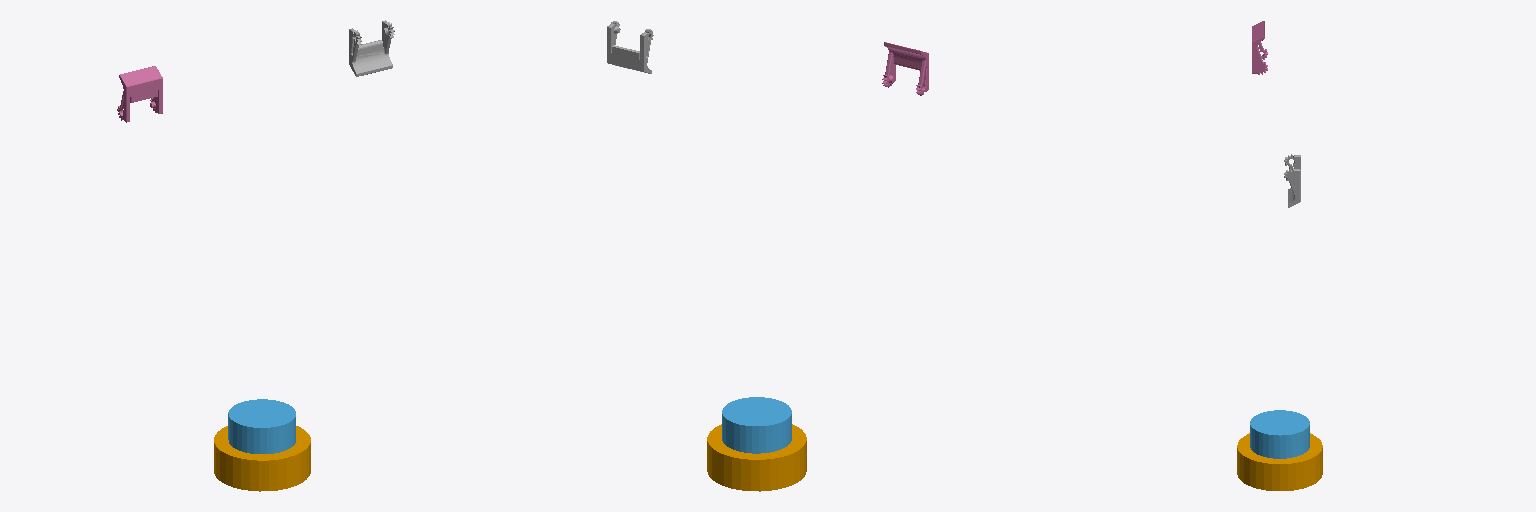
The robot description file, URDF, robot "arm_mesh":
<?xml version = "1.0" ?>
<robot name="arm_mesh">



	<link name = "base">
			<visual>
				<origin rpy="0 0 0" xyz = "0 0 0"/>
				<geometry>
               		<cylinder radius="0.05" length="0.035"/>
            	</geometry>
        	</visual>

            <collision>
                <origin rpy="0 0 0" xyz = "0 0 0"/>
                <geometry>
                    <cylinder radius="0.05" length="0.035"/>
                </geometry>
            </collision>

            <inertial>
                <mass value = "0.120"/>
                <origin rpy="0 0 0" xyz = "0 0 0"/>
                <inertia ixx="8.7e-05" ixy="0.0" ixz="0.0" iyy="8.7e-05" iyz="0.0" izz="0.00015"/>
            </inertial>

    </link>


    <joint name = "base_link1" type = "revolute">
			<axis xyz= "0 0 1"/>
			<limit effort="1000.0" lower="-3.14" upper="3.14" velocity="0.5" />
        	<origin rpy="0 0 0" xyz="0 0 0.0175"/>
        	<parent link="base"/>
        	<child link="link1"/>
    </joint>

    <link name = "link1">
			<visual>
				<origin rpy="0 0 0" xyz = "0 0 0.015"/>
				<geometry>
               		<cylinder radius="0.035" length="0.03"/>
            	</geometry>
        	</visual>

            <collision>
                <origin rpy="0 0 0" xyz = "0 0 0.015"/>
                <geometry>
                    <cylinder radius="0.035" length="0.03"/>
                </geometry>
            </collision>

            <inertial>
                <mass value = "0.075"/>
                <origin rpy="0 0 0" xyz = "0 0 0.0325 "/>
                <inertia ixx="0.037" ixy="0.000274" ixz="-0.000001395" iyy="0.0245" iyz="0.000007207" izz="0.01526"/>
            </inertial>
    </link>

    <joint name = "link1_link2" type = "revolute">
			<axis xyz= "0 1 0"/>
			<limit effort="1000.0" lower="-1.57" upper="1.57" velocity="0.5" />
        	<origin rpy="0 0 0" xyz="0 0 0.042"/>
        	<parent link="link1"/>
        	<child link="link2"/>
        </joint>

    <link name = "link2">
			<visual>
				<origin rpy="0 0 0" xyz = "0 -0.02 0.05"/>
				<geometry>
               		<mesh filename="package://my_arm/meshes/link2.stl" scale = "0.001 0.001 0.001"/>
            	</geometry>
        	</visual>
            <collision>
                <origin rpy="0 0 0" xyz = "0 0 0.05"/>
                <geometry>
                    <box size ="0.025 0.054 0.12"/>
                </geometry>
            </collision>

            <inertial>
                <mass value = "0.018"/>
                <origin rpy="0 0 0" xyz = "0 0 0.05 "/>
                <inertia ixx="0.037" ixy="0.000274" ixz="-0.000001395" iyy="0.0245" iyz="0.000007207" izz="0.01526"/>
            </inertial>
    </link>

    <joint name = "link2_link3" type = "revolute">
			<axis xyz= "0 1 0"/>
			<limit effort="1000.0" lower="-1.57" upper="1.57" velocity="0.5" />
        	<origin rpy="0 0 0" xyz="0 0 0.095"/>
        	<parent link="link2"/>
        	<child link="link3"/>
        </joint>

    <link name = "link3">
			<visual>
				<origin rpy="0 0 0" xyz = "-0.04 -0.045 0.03"/>
				<geometry>
               		<mesh filename="package://my_arm/meshes/link3.stl" scale = "0.001 0.001 0.001"/>
            	</geometry>
        	</visual>

            <collision>
                <origin rpy="0 0 0" xyz = "0 0 0.045"/>
                <geometry>
                    <box size="0.03 0.04 0.14"/>
                </geometry>
            </collision>

            <inertial>
                <mass value = "0.130"/>
                <origin rpy="0 0 0" xyz = "0 0 0 "/>
                <inertia ixx="0.037" ixy="0.000274" ixz="-0.000001395" iyy="0.0245" iyz="0.000007207" izz="0.01526"/>
            </inertial>
    </link>

    <joint name = "link3_link4" type = "revolute">
			<axis xyz= "0 1 0"/>
			<limit effort="1000.0" lower="-1.57" upper="1.57" velocity="0.5" />
        	<origin rpy="0 0 0" xyz="0 0 0.09"/>
        	<parent link="link3"/>
        	<child link="link4"/>
        </joint>

    <link name = "link4">
			<visual>
				<origin rpy="0 -1.57 1.57" xyz = "0.017 -0.0135 0.033"/>
				<geometry>
               		<mesh filename="package://my_arm/meshes/link4.stl" scale = "0.001 0.001 0.001"/>
            	</geometry>
        	</visual>

            <collision>
                <origin rpy="0 -1.57 1.57" xyz = "0.017 -0.0135 0.033"/>
                <geometry>
                    <mesh filename="package://my_arm/meshes/link4.stl" scale = "0.001 0.001 0.001"/>
                </geometry>
            </collision>

            <inertial>
                <mass value = "0.025"/>
                <origin rpy="0 0 0" xyz = "0 0 0 "/>
                <inertia ixx="0.00485" ixy="-0.000197" ixz="-0.00017" iyy="0.0084" iyz="0.0" izz="0.0042"/>
            </inertial>
    </link>

    <joint name = "link4_gripper_base" type = "revolute">
			<axis xyz= "0 0 1"/>
			<limit effort="1000.0" lower="-1.57" upper="1.57" velocity="0.5" />
        	<origin rpy="0 0 0" xyz="-0.01 0 0.06"/>
        	<parent link="link4"/>
        	<child link="gripper_base"/>
        </joint>

    <link name = "gripper_base">
			<visual>
				<origin rpy="0 0 3.14" xyz = "0.1 0.095 0"/>
				<geometry>
               		<mesh filename="package://my_arm/meshes/gripper_base.stl" scale = "0.001 0.001 0.001"/>
            	</geometry>
        	</visual>

            <collision>
                <origin rpy="0 0 3.14" xyz = "0.1 0.095 0"/>
                <geometry>
                    <mesh filename="package://my_arm/meshes/gripper_base.stl" scale = "0.001 0.001 0.001"/>
                </geometry>
            </collision>

            <inertial>
                <mass value = "0.020"/>
                <origin rpy="0 0 0" xyz = "0 0 0 "/>
                <inertia ixx="0.00156" ixy="0.0000274" ixz="-0.00001845" iyy="0.0016" iyz="0.000032" izz="0.0027"/>
            </inertial>
    </link>

 <joint name = "gripper_base_claw_L" type = "revolute">
			<axis xyz= "1 0 0"/>
			<limit effort="1000.0" lower="-1.57" upper="1.57" velocity="0.5" />
        	<origin rpy="0 0 0" xyz="0 -0.0125 0.01"/>
        	<parent link="gripper_base"/>
        	<child link="claw_L"/>
        </joint>

    <link name = "claw_L">
			<visual>
				<origin rpy="-1.57 0 0" xyz = "-0.150 -0.01 0.125"/>
				<geometry>
               		<mesh filename="package://my_arm/meshes/gripper_claw_L.stl" scale = "0.001 0.001 0.001"/>
            	</geometry>
        	</visual>
            <collision>
                <origin rpy="-1.57 0 0" xyz = "-0.150 -0.01 0.125"/>
                <geometry>
                    <mesh filename="package://my_arm/meshes/gripper_claw_L.stl" scale = "0.001 0.001 0.001"/>
                </geometry>
            </collision>

            <inertial>
                <mass value = "0.007"/>
                <origin rpy="0 0 0" xyz = "0 0 0 "/>
                <inertia ixx="0.037" ixy="0.000274" ixz="-0.000001395" iyy="0.0245" iyz="0.000007207" izz="0.01526"/>
            </inertial>
    </link>

    <joint name = "gripper_base_claw_R" type = "revolute">
			<axis xyz= "-1 0 0"/>
			<limit effort="1000.0" lower="-1.57" upper="1.57" velocity="0.5" />
        	<origin rpy="0 0 0" xyz="0 0.0035 0.012"/>
        	<parent link="gripper_base"/>
        	<child link="claw_R"/>
        </joint>

    <link name = "claw_R">
			<visual>
				<origin rpy="-1.57 0 3.14" xyz = "0.147 0.01 0.123"/>
				<geometry>
               		<mesh filename="package://my_arm/meshes/gripper_claw_R.stl" scale = "0.001 0.001 0.001"/>
            	</geometry>
        	</visual>
            <collision>
                <origin rpy="-1.57 0 3.14" xyz = "0.147 0.01 0.123"/>
                <geometry>
                    <mesh filename="package://my_arm/meshes/gripper_claw_R.stl" scale = "0.001 0.001 0.001"/>
                </geometry>
            </collision>

            <inertial>
                <mass value = "0.007"/>
               <origin rpy="0 0 0" xyz = "0 0 0 "/>
                <inertia ixx="0.037" ixy="0.000274" ixz="-0.000001395" iyy="0.0245" iyz="0.000007207" izz="0.01526"/>
            </inertial>
    </link>
<gazebo>
    <plugin name="gazebo_ros_control" filename="libgazebo_ros_control.so">
    
    </plugin>
  </gazebo>


   

</robot>

--- Render facts (derived) ---
3 views of the same robot in one strip: view 1: azimuth 30°, elevation 25°; view 2: azimuth 150°, elevation 25°; view 3: azimuth 270°, elevation 25° (orthographic).
Model arm_mesh with 8 links and 7 joints (7 revolute), rooted at base, posed every joint at zero.
Visible links, largest first — view 1: base, link1, claw_R, claw_L; view 2: base, link1, claw_R, claw_L; view 3: base, link1, claw_R, claw_L.
Link boxes in pixels (x1,y1,x2,y2): base: (214,426,310,491); link1: (228,399,295,453); claw_R: (349,20,394,76); claw_L: (117,66,162,122); base: (707,424,806,491); link1: (722,397,791,453); claw_R: (607,21,653,73); claw_L: (882,42,928,95); base: (1237,433,1322,490); link1: (1250,410,1309,458); claw_R: (1284,154,1300,207); claw_L: (1252,21,1267,74).
Size in the robot's own frame: 0.3404 by 0.1 by 0.4988 metres.
2 mesh visuals loaded from 6 distinct referenced files (2 binary STL); not drawn: 4 (reference not matched to a file when rendering).